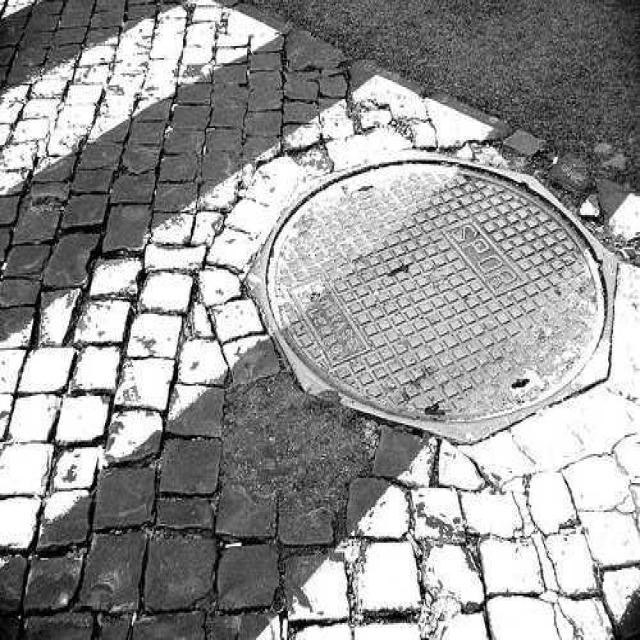manhole: (247, 157, 615, 441)
